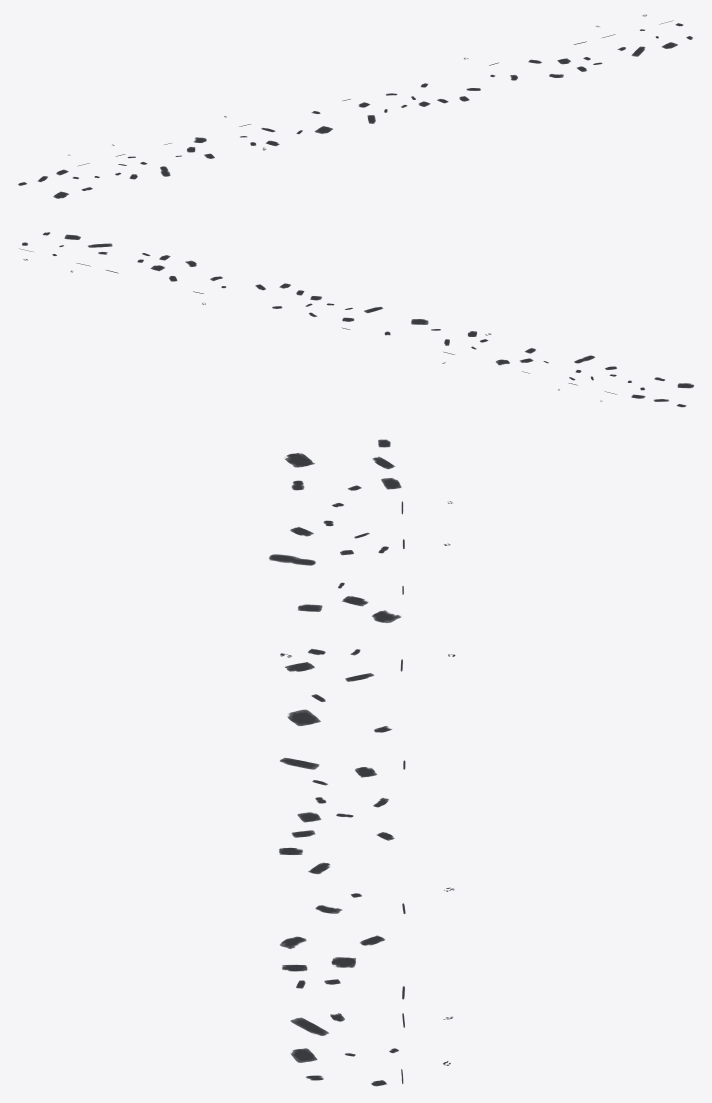
Rendered from puddles1.glb.
3 renders of one model, top to bottom at view 1: azimuth 30°, elevation 25°; view 2: azimuth 150°, elevation 25°; view 3: azimuth 270°, elevation 25°, orthographic. The views are drawn at different scales.
Parts seen in each view (by area): view 1: Puddles; view 2: Puddles; view 3: Puddles.
Part boxes in pixels (bbox=[...]): Puddles: bbox=[18, 14, 692, 198]; Puddles: bbox=[19, 232, 693, 407]; Puddles: bbox=[269, 439, 455, 1086].
Bounding box in the file's own units: 90.35 × 0.1776 × 12.01.
Materials: 1 (1 with a texture image).
